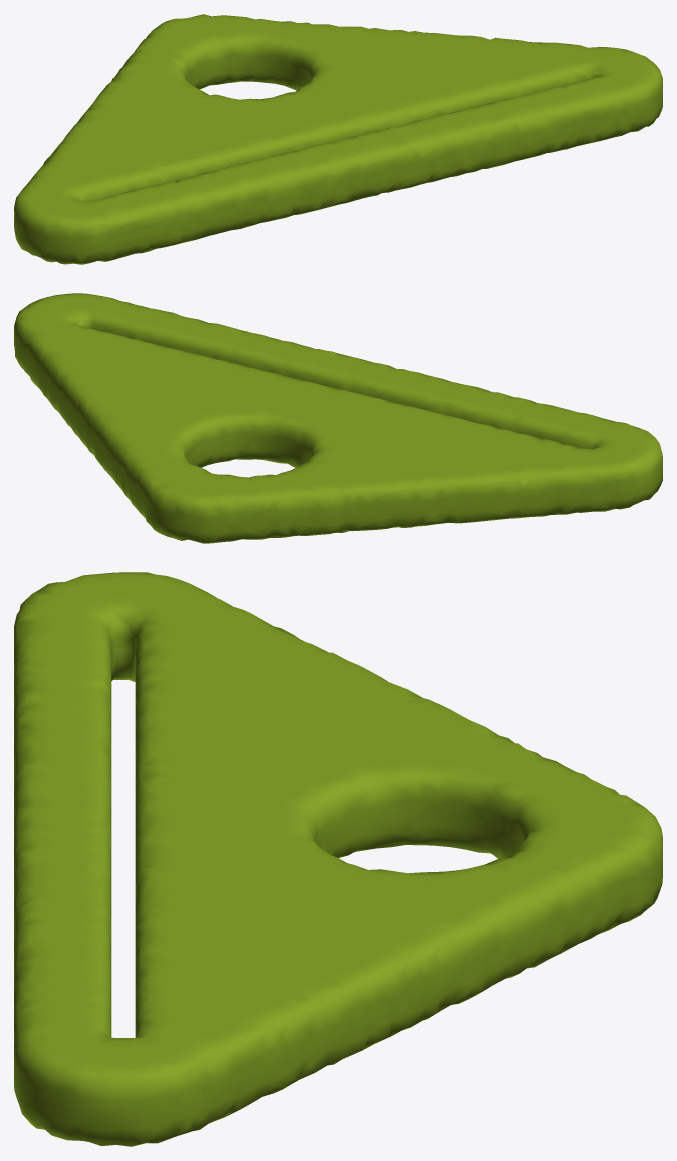
The model's file is model_decimated.obj.
3 views of the same model, one above another, from view 1: azimuth 30°, elevation 25°; view 2: azimuth 150°, elevation 25°; view 3: azimuth 270°, elevation 25° (orthographic). The views are drawn at different scales.
Bounding box in the file's own units: 74.99 × 5.03 × 40.
